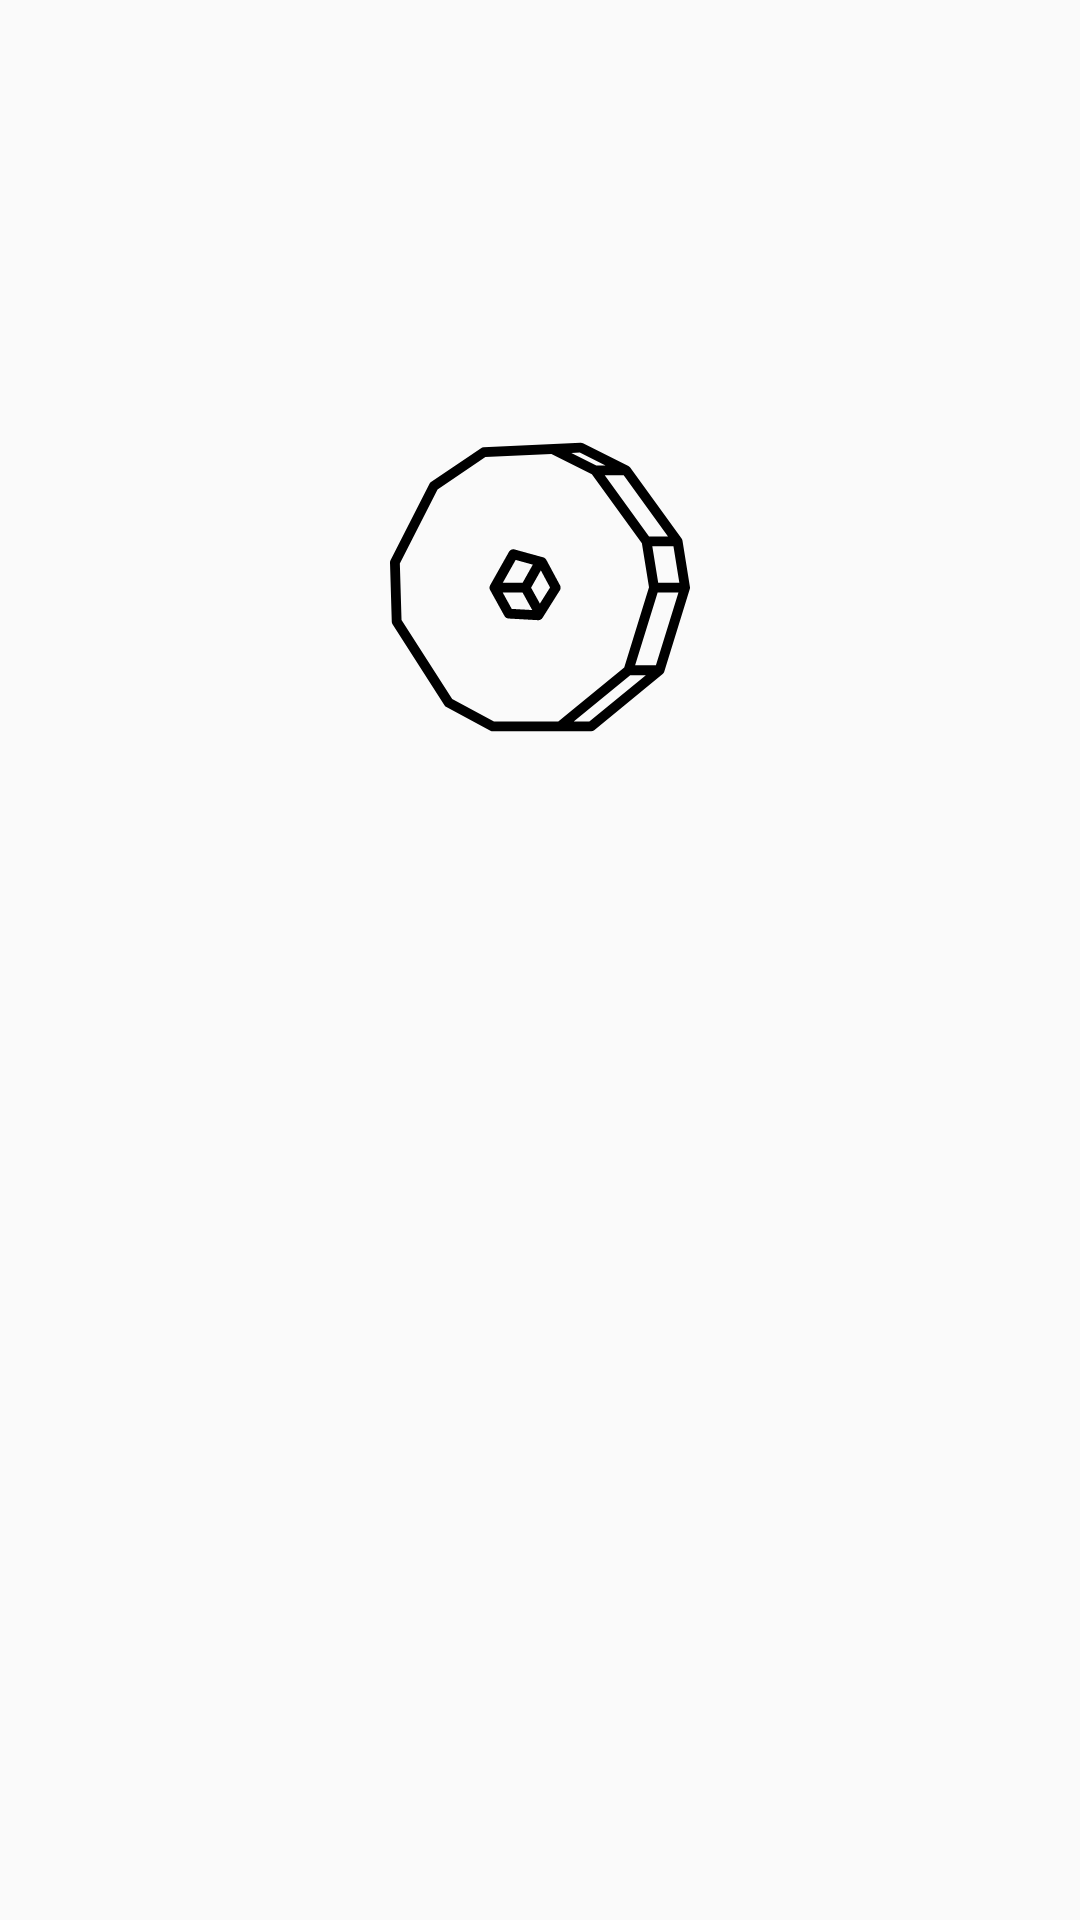

Point at icon controls on the screen. Image size 1080px×1920px, points as (x,y).
wheel line: (540,587)
